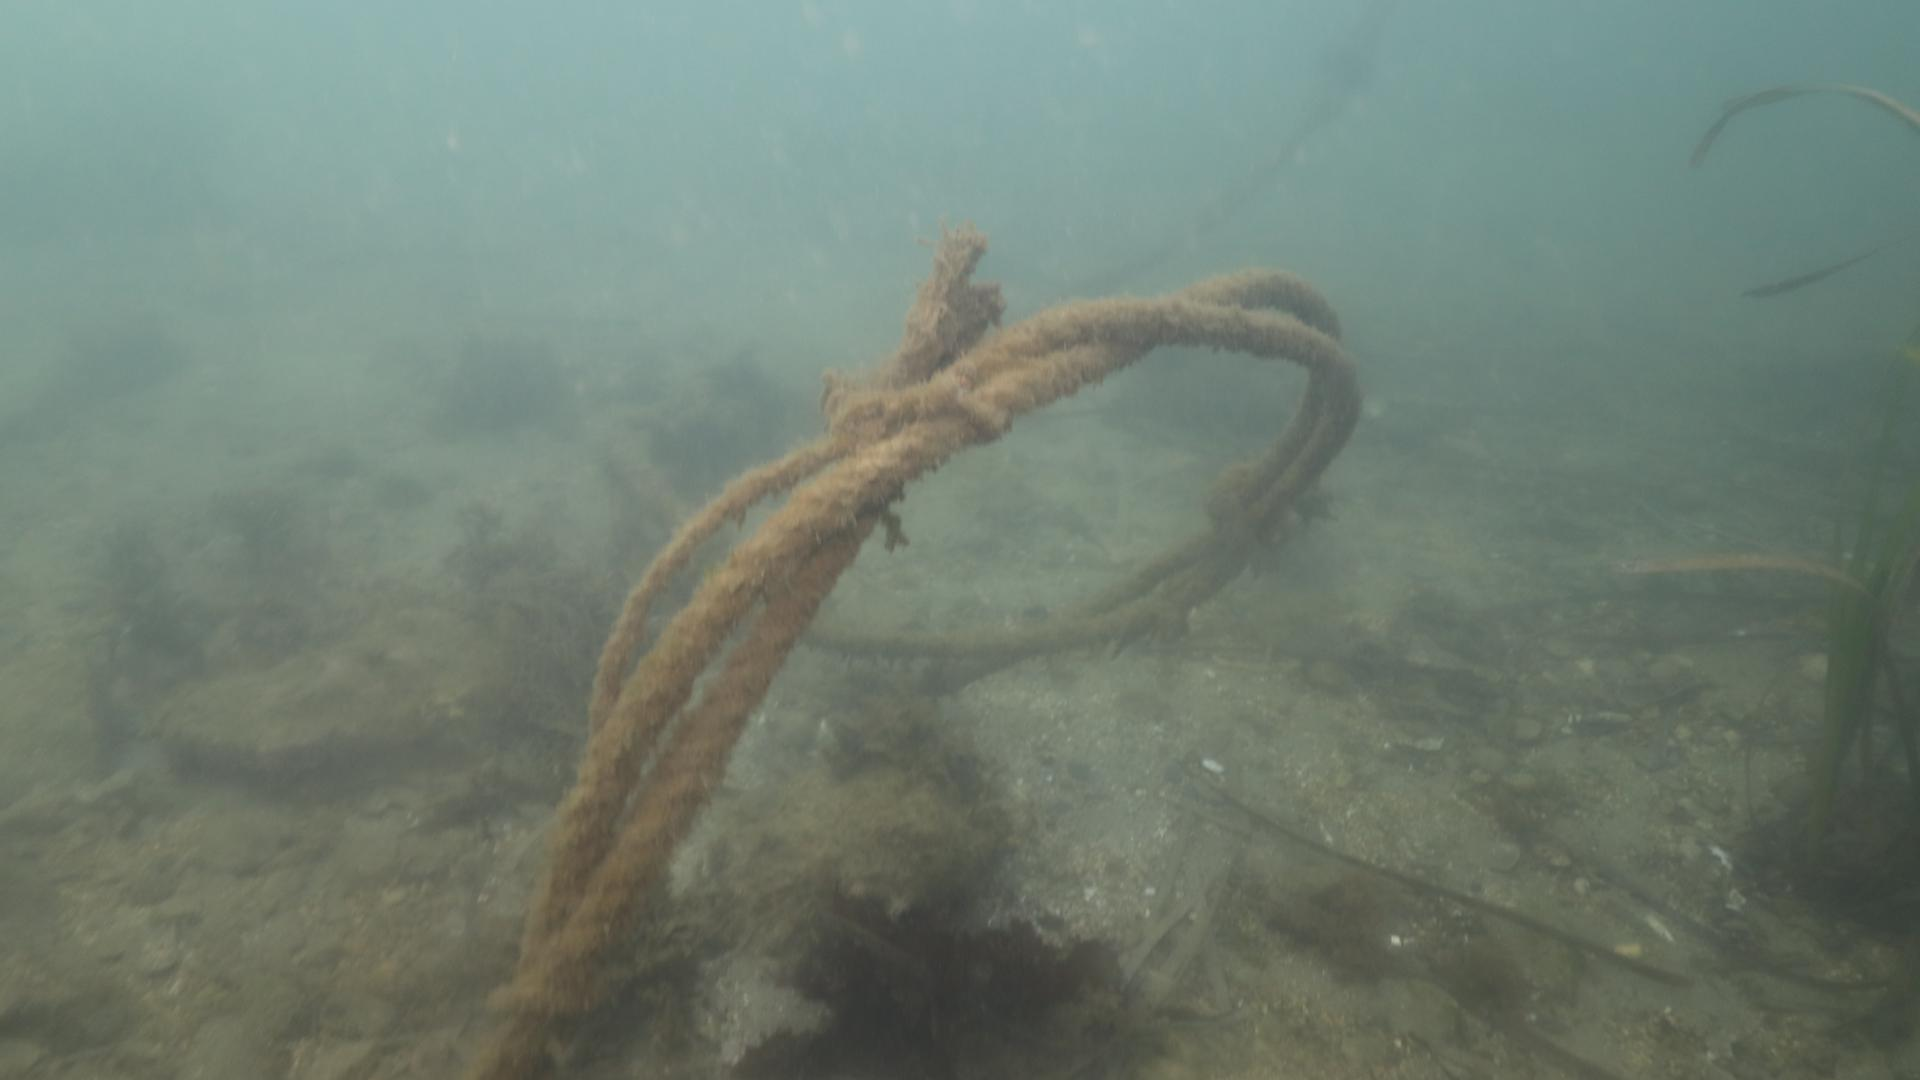bundle of ropes: (450, 229, 1360, 1079)
